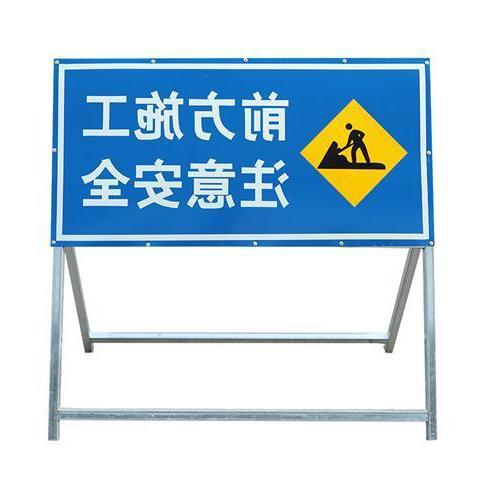sign: (52, 53, 435, 249)
